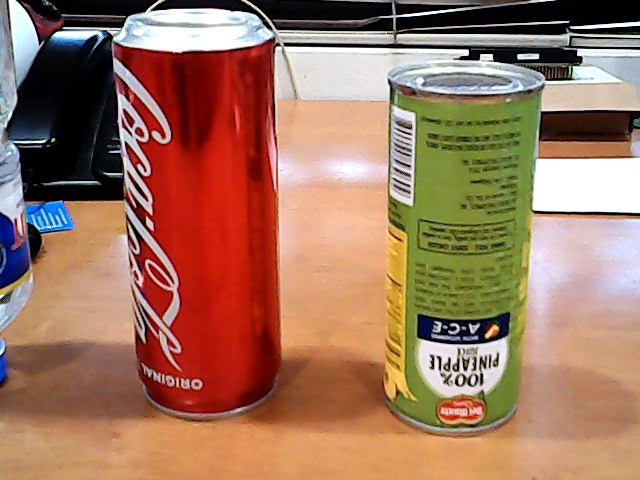Cola: (92, 4, 302, 423)
Pine Juice: (368, 45, 552, 457)
